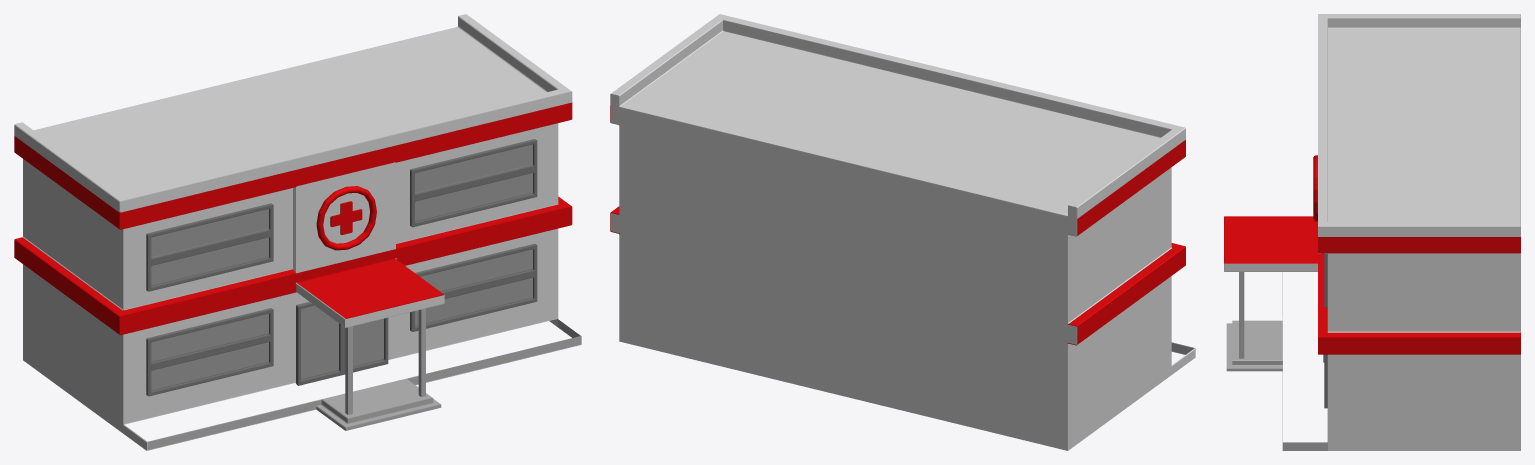
The model's file is blupHouse5.fbx.
3 views of the same model, side by side, from view 1: azimuth 30°, elevation 25°; view 2: azimuth 150°, elevation 25°; view 3: azimuth 270°, elevation 25° (orthographic). The views are drawn at different scales.
Parts seen in each view (by area): view 1: Cube.003; view 2: Cube.003; view 3: Cube.003.
Boxes of the visible parts, x1,y1,x2,y2 form: Cube.003: (14,14,581,450); Cube.003: (610,14,1195,450); Cube.003: (1224,14,1520,450).
Size of the model in its own units: 1041 by 524 by 615.
